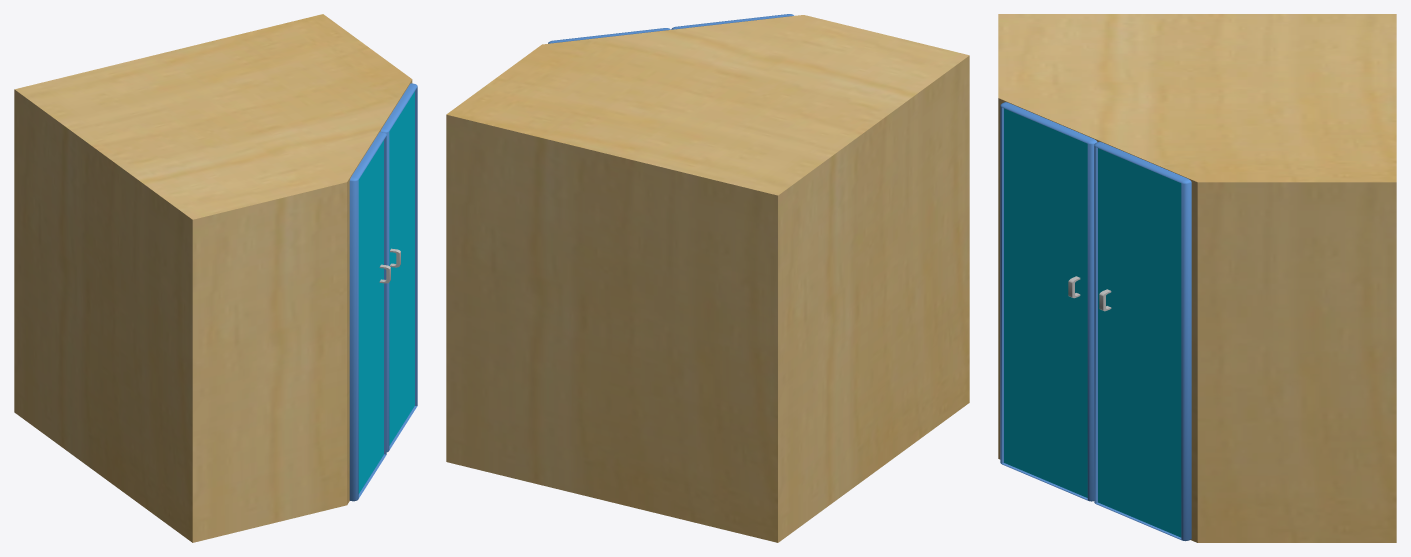
The model's file is sh-lp-mobile-angolo-interno.glb.
The picture shows the model from 3 angles, left to right: view 1: azimuth 30°, elevation 25°; view 2: azimuth 150°, elevation 25°; view 3: azimuth 270°, elevation 25°; orthographic projection. The views are drawn at different scales.
Parts seen in each view (by area): view 1: Line33_7, Box23_2, ChamferBox20_3; view 2: Line33_7, ChamferBox20_3; view 3: Line33_7, Box23_2, ChamferBox20_3.
Part boxes in pixels (x1,y1,x2,y2): Line33_7: [14, 14, 412, 542]; Box23_2: [358, 91, 414, 493]; ChamferBox20_3: [349, 83, 417, 501]; Line33_7: [446, 15, 969, 542]; ChamferBox20_3: [548, 14, 794, 43]; Line33_7: [998, 14, 1396, 542]; Box23_2: [1004, 108, 1181, 537]; ChamferBox20_3: [1000, 102, 1191, 541].
Bounding box in the file's own units: 1 × 1 × 1.
4 materials, 1 textured.
